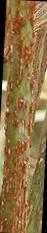Wheat: (4, 46, 32, 180)
